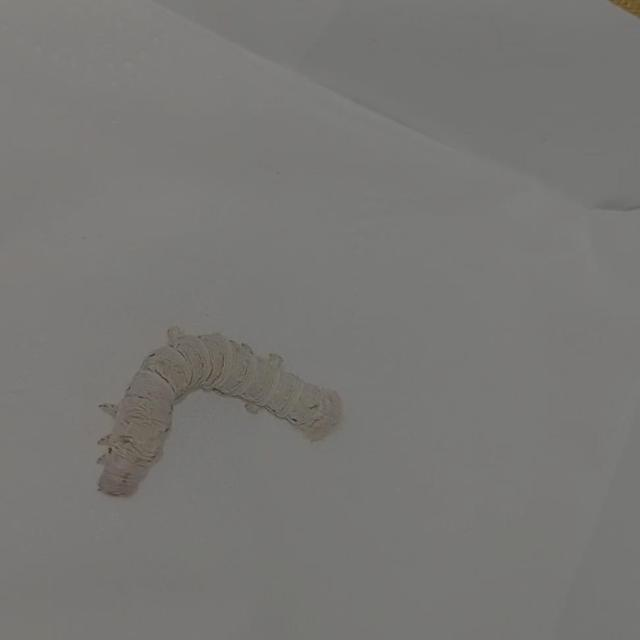Healthy: (74, 315, 355, 506)
